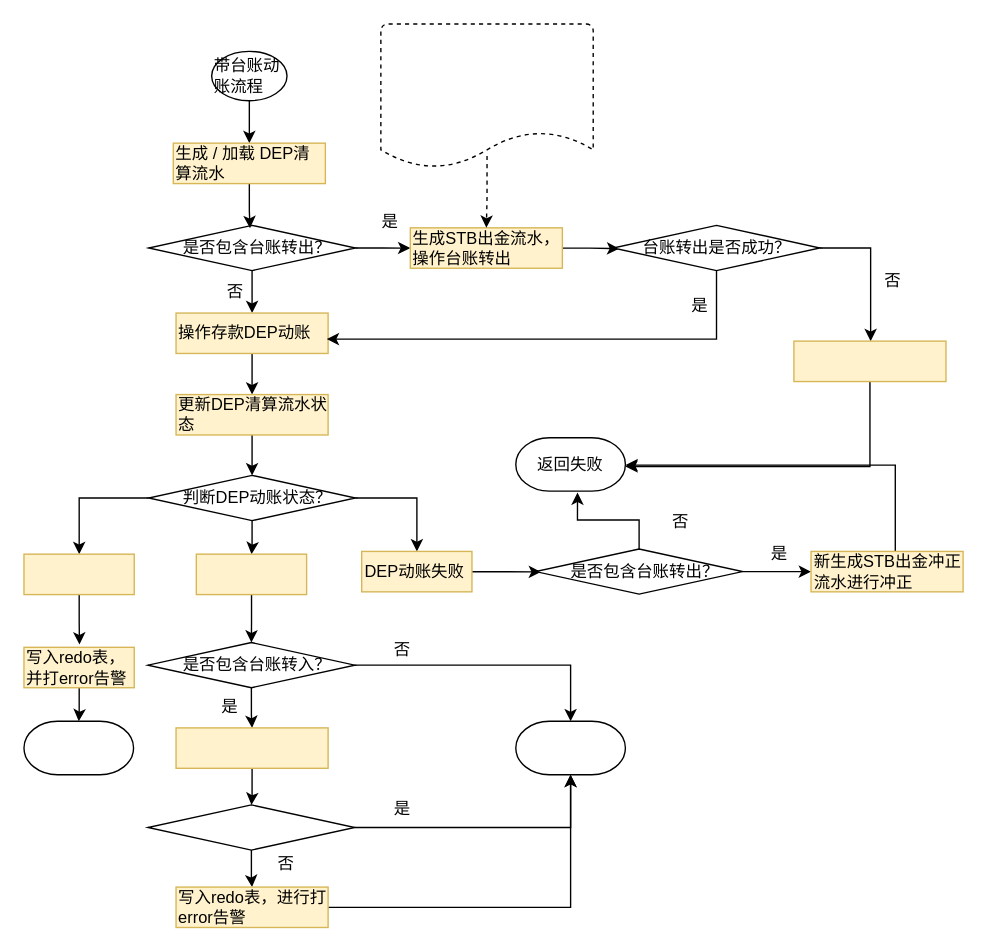
Some shapes in this 988 by 952 pixel diagram are drawn without their labels. Each missing label, with the centre of its shape:
"DEP动账成功" belongs at point (251, 574).
"DEP动账超时" belongs at point (78, 574).
"可能是台账出金，也可能是台账解冻并动账。 这里做了防重处理，即使重试多次，同一笔dep清算流水最多只会有一次有效的台账转出操作" belongs at point (486, 95).
"台账转入是否成功？" belongs at point (251, 827).
"更新STB出金和DEP清算流水为失败" belongs at point (869, 361).
"生成STB入金流水，操作台账转入" belongs at point (251, 747).
"返回成功" belongs at point (569, 747).
"返回超时" belongs at point (78, 747).
